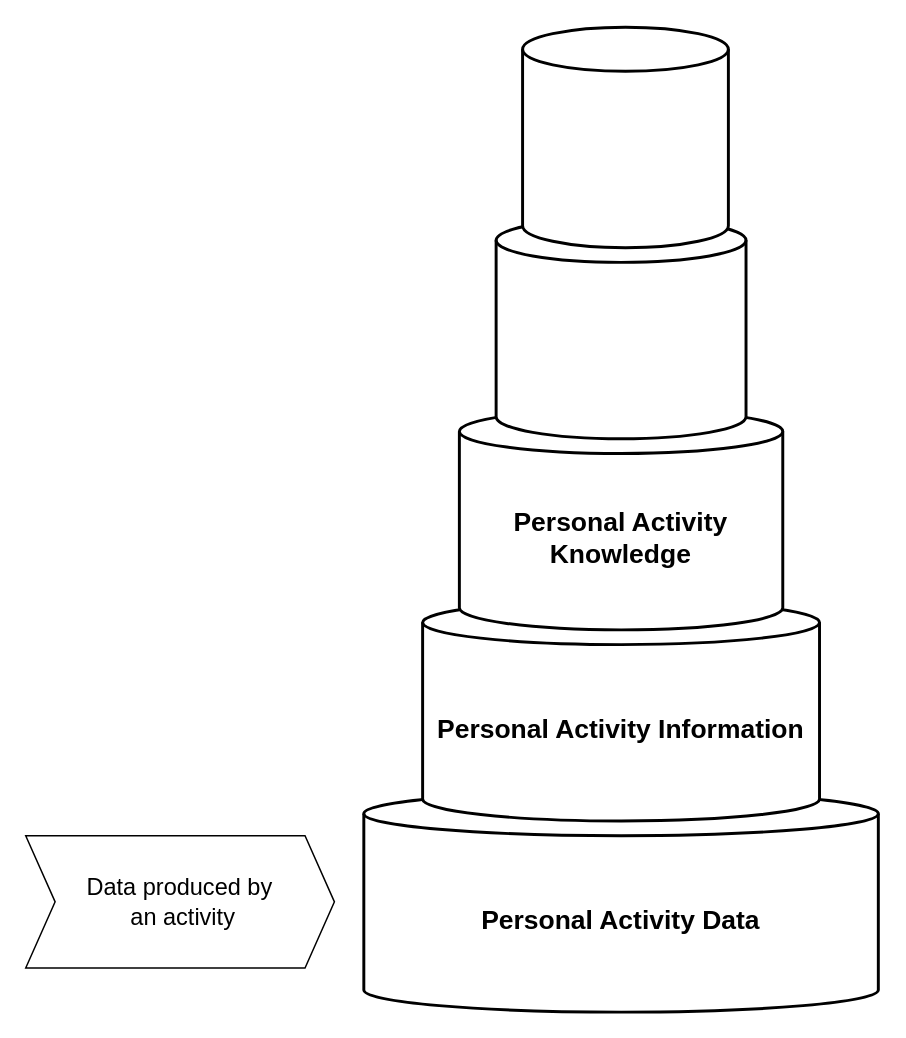
This 906x1038 diagram has some shape labels left out. Each missing label, with the box of its shape:
Personal Activity Experience: (494, 216, 747, 440)
Personal Activity Wisdom: (520, 25, 729, 248)
